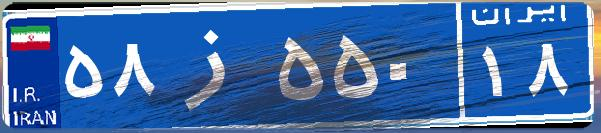0: (385, 28, 445, 110)
1: (475, 38, 525, 113)
5: (273, 28, 330, 110), (330, 28, 385, 110), (57, 26, 110, 107)
8: (110, 28, 158, 105), (525, 38, 570, 115)
ز: (158, 15, 273, 115)
